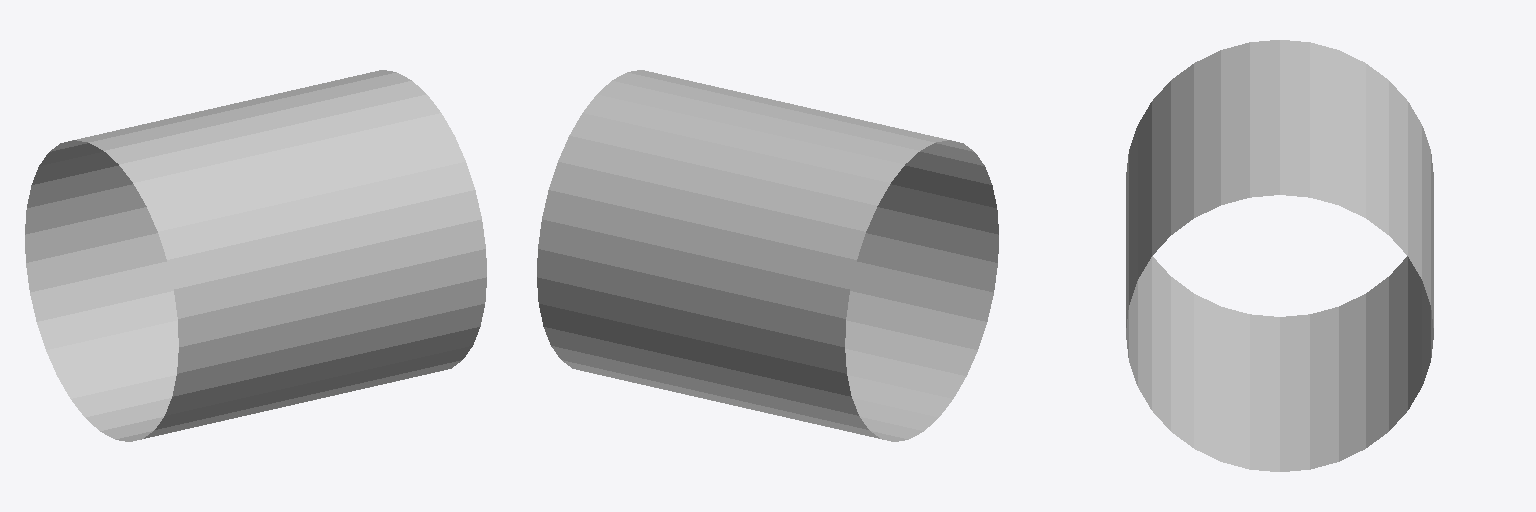
The model's file is ceuu.obj.
3 views of the same model, side by side, from view 1: azimuth 30°, elevation 25°; view 2: azimuth 150°, elevation 25°; view 3: azimuth 270°, elevation 25° (orthographic).
Parts seen in each view (by area): view 1: Cilindro; view 2: Cilindro; view 3: Cilindro.
Part boxes in pixels (bbox=[...]): Cilindro: bbox=[25, 70, 486, 441]; Cilindro: bbox=[537, 70, 998, 441]; Cilindro: bbox=[1126, 40, 1433, 471].
Bounding box in the file's own units: 55.02 × 47.84 × 47.01.